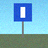sign: (14, 3, 32, 37)
